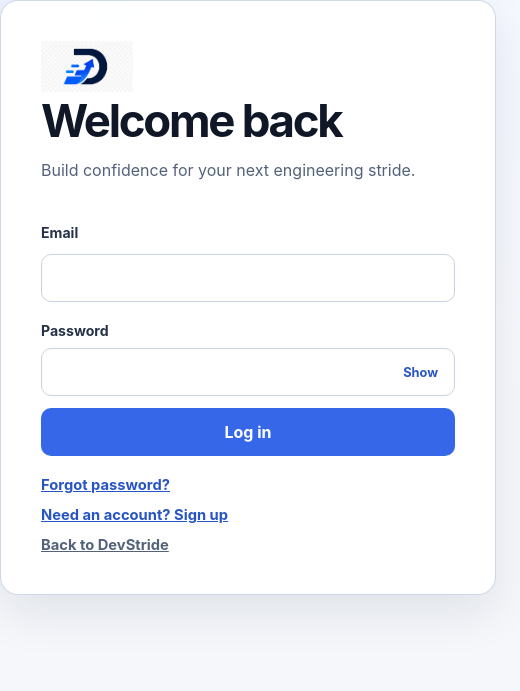
Test case: AuthForm › shows authentication errors
Type "user@example.com" into the field labelled "Email" at (248, 278), box top-left (41, 254), bottom-right (455, 302)
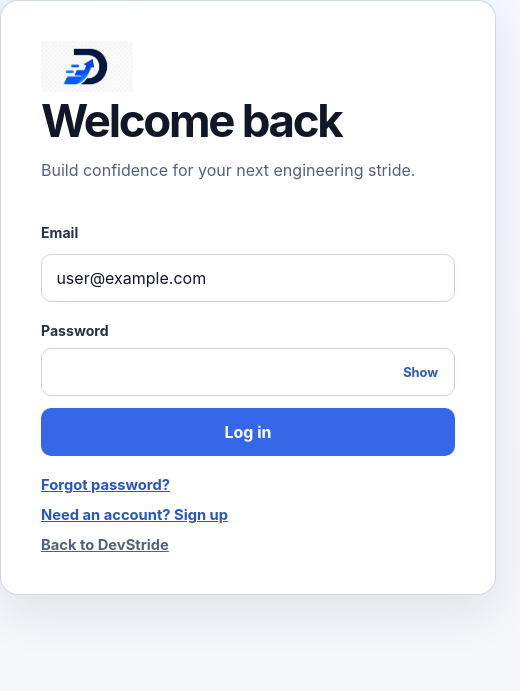
Type "password123" into the password field labelled "Password" at (248, 372), box top-left (41, 348), bottom-right (455, 396)
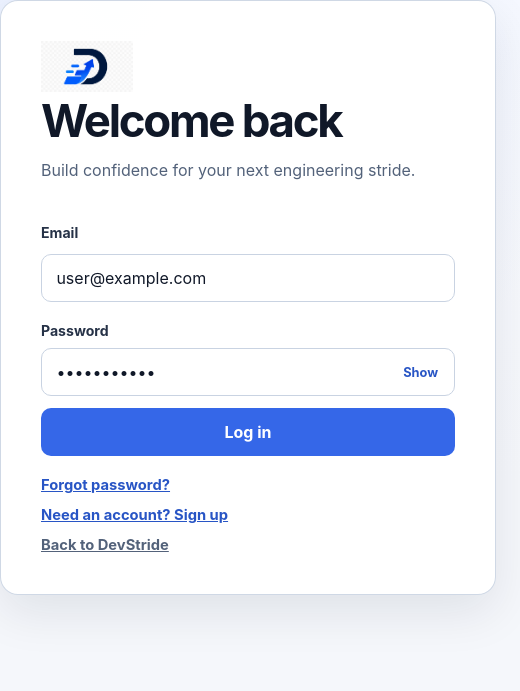
Click the button "Log in" at (248, 432), box top-left (41, 408), bottom-right (455, 456)
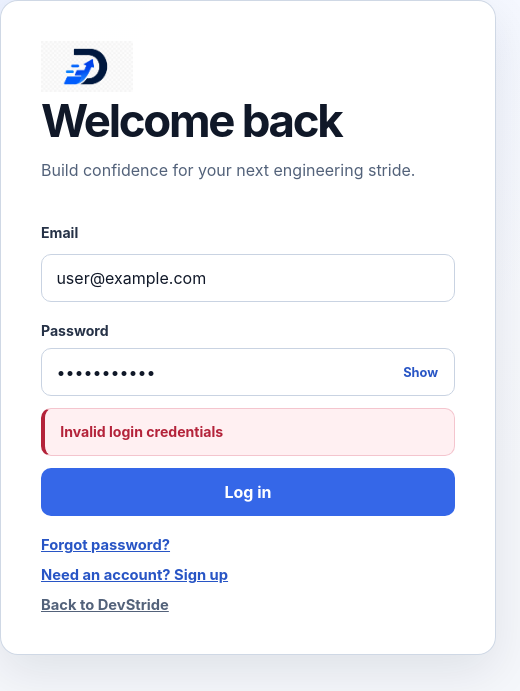
Now the message reads "Invalid login credentials", box top-left (60, 423), bottom-right (223, 440)
